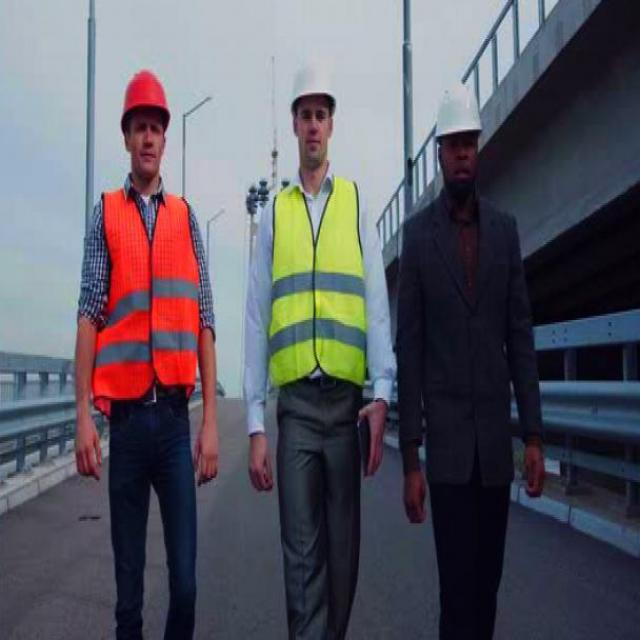helmet: (109, 54, 175, 188), (428, 67, 489, 190), (288, 63, 349, 175)
